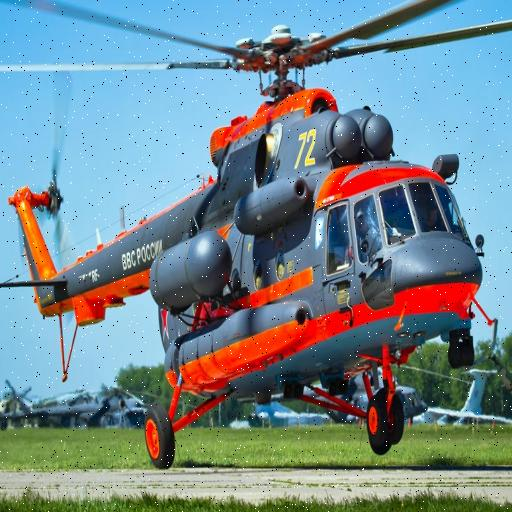helicopter: (9, 1, 506, 463)
